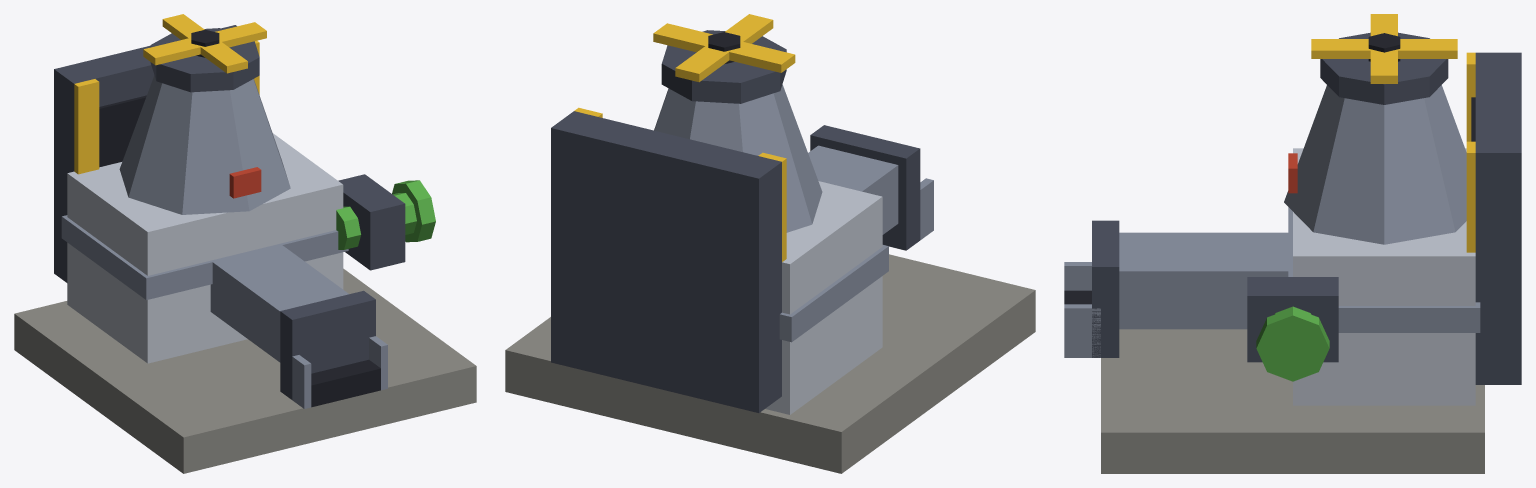
Rendered from extractor-right.glb.
3 views of the same model, side by side, from view 1: azimuth 30°, elevation 25°; view 2: azimuth 150°, elevation 25°; view 3: azimuth 270°, elevation 25° (orthographic). The views are drawn at different scales.
Visible parts, largest first — view 1: extractor-right, spin-up; view 2: extractor-right, spin-up; view 3: extractor-right, spin-up.
Boxes of the visible parts, x1,y1,x2,y2 form: extractor-right: (14,25,476,473); spin-up: (143,14,266,73); extractor-right: (505,30,1035,473); spin-up: (653,14,795,82); extractor-right: (1064,32,1521,473); spin-up: (1311,14,1457,83).
Bounding box in the file's own units: 0.92 × 0.85 × 1.
Materials: 2 (2 with a texture image).
